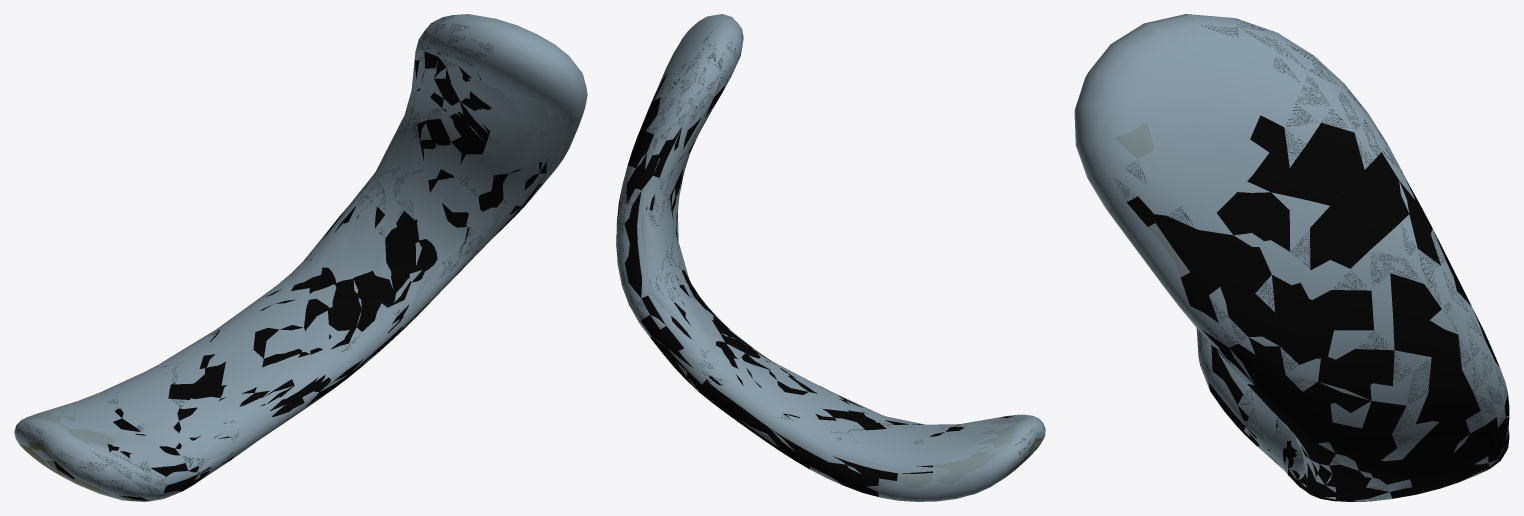
3 views of the same model, side by side, from view 1: azimuth 30°, elevation 25°; view 2: azimuth 150°, elevation 25°; view 3: azimuth 270°, elevation 25° (orthographic). The views are drawn at different scales.
Visible parts, largest first — view 1: CC L01, CC L01 high, CC L01 low; view 2: CC L01, CC L01 high, CC L01 low; view 3: CC L01 high, CC L01, CC L01 low.
Boxes of the visible parts, left/top/right/bottom form: CC L01: left=14, top=14, right=587, bottom=501; CC L01 high: left=15, top=15, right=585, bottom=501; CC L01 low: left=82, top=93, right=543, bottom=475; CC L01: left=616, top=14, right=1045, bottom=501; CC L01 high: left=616, top=15, right=1043, bottom=501; CC L01 low: left=641, top=138, right=999, bottom=469; CC L01 high: left=1075, top=15, right=1509, bottom=501; CC L01: left=1074, top=14, right=1509, bottom=500; CC L01 low: left=1234, top=391, right=1306, bottom=468.
Bounding box in the file's own units: 4.51 × 3.73 × 2.32.
